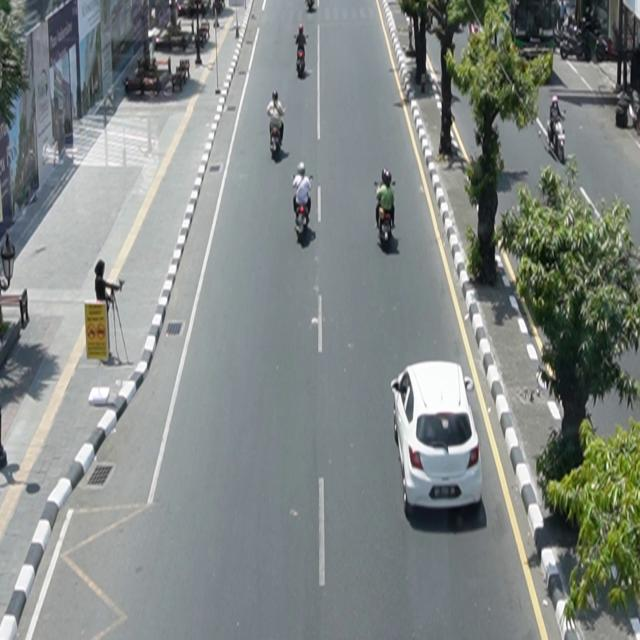car: (391, 360, 484, 518)
